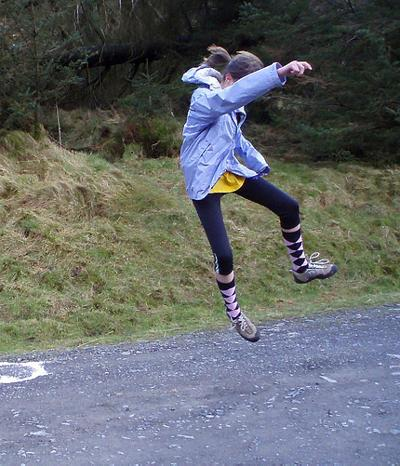person: (180, 44, 335, 345)
